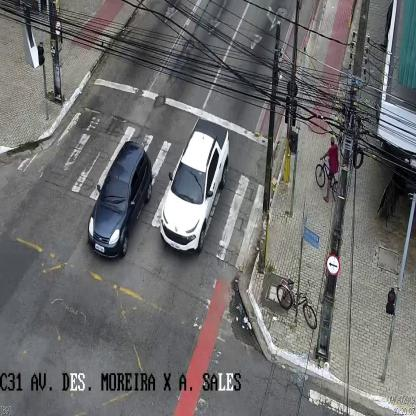bicycle: (276, 276, 317, 334), (314, 136, 344, 206)
car: (160, 117, 229, 252), (87, 141, 152, 260)
